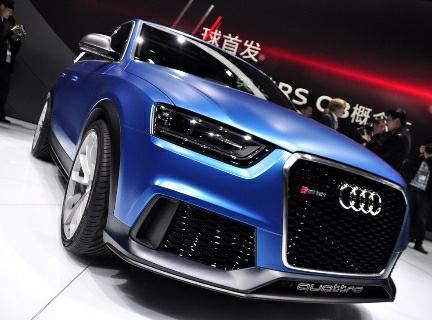奥迪-S3: (28, 13, 415, 308)
